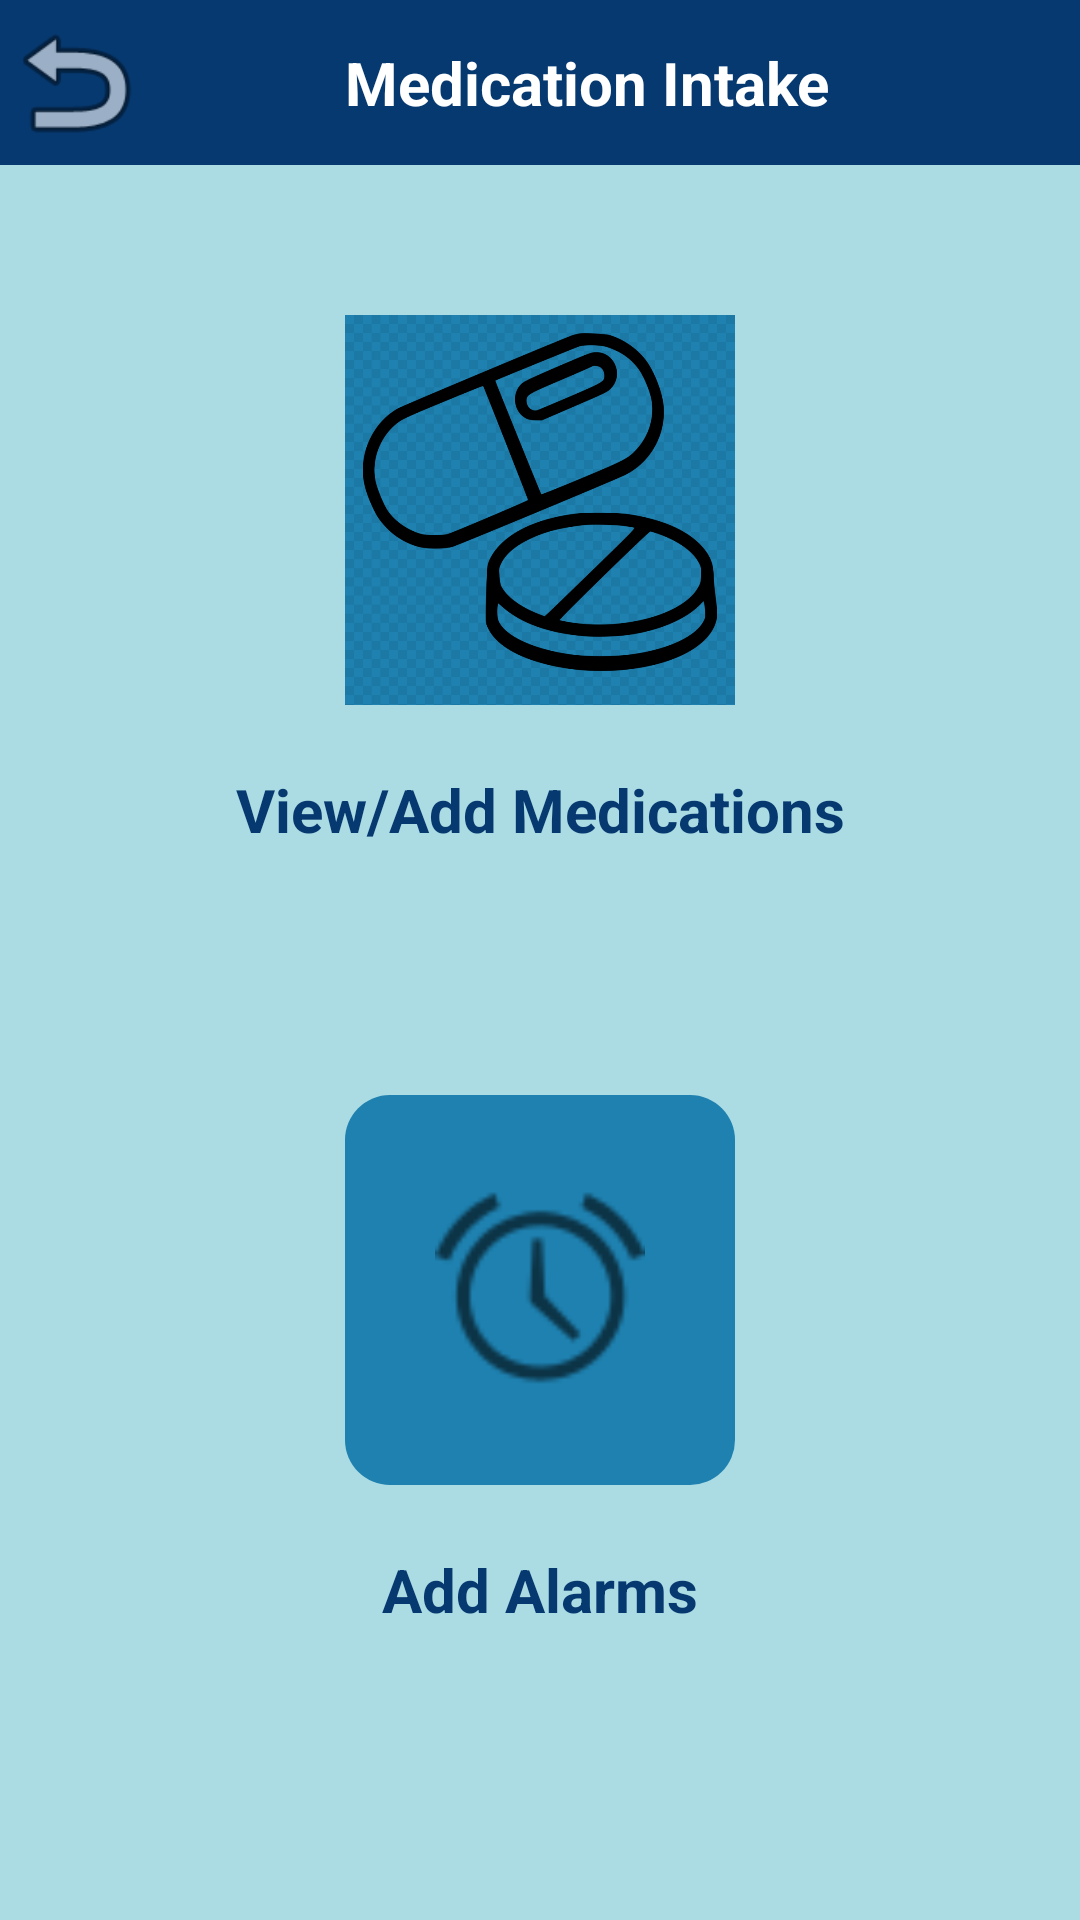

Named icons in this screenshot (1080 x 1920) and their bounding boxes, (x1, y1, x2, y2):
revert: (23, 35, 130, 132)
